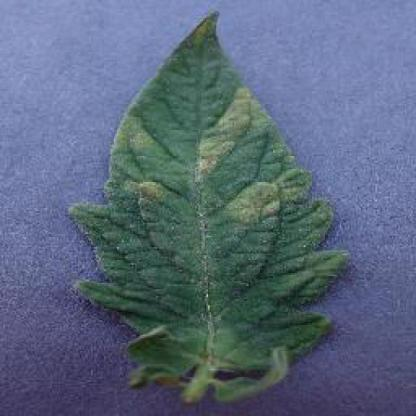Tomato_Leaf_Mold: (69, 9, 351, 382)
